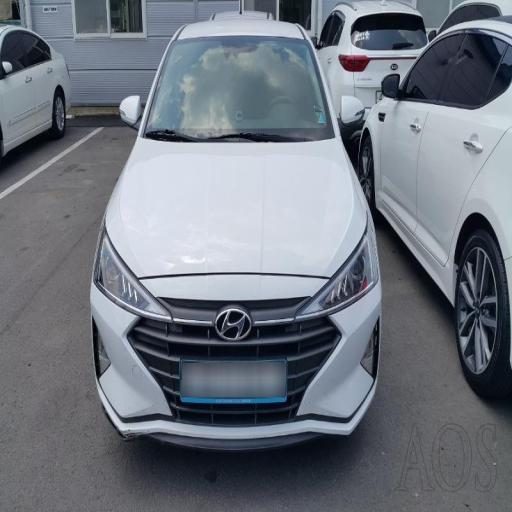scratch: (152, 232, 262, 294)
